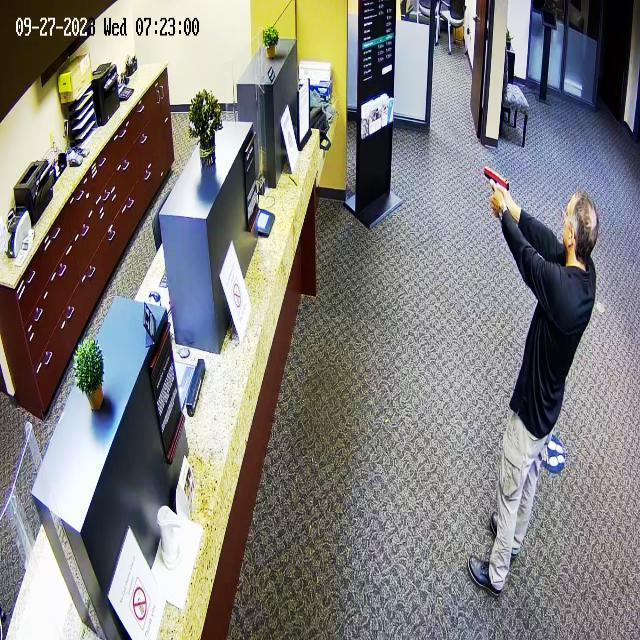Gun: (467, 156, 518, 204)
